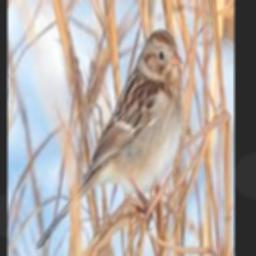Sparrow: (36, 28, 182, 250)
